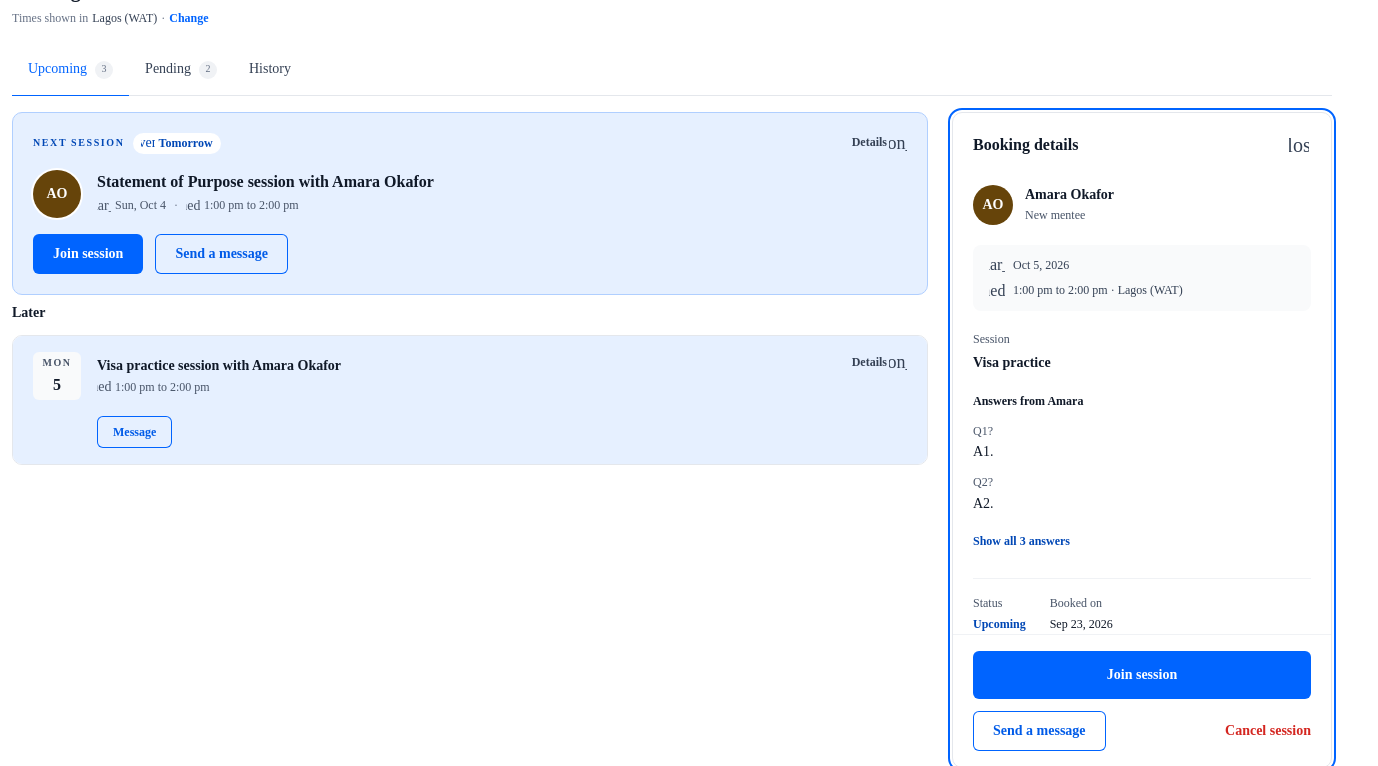
Test: the booking form answers, wired up › the panel shows them, and the disclosure reveals the rest
This screenshot has width=1378, height=766.
(page scrolled)
Expected: the text "A3." is not shown
Click the button "Show all 3 answers" at (1022, 542), box [973, 526, 1070, 558]
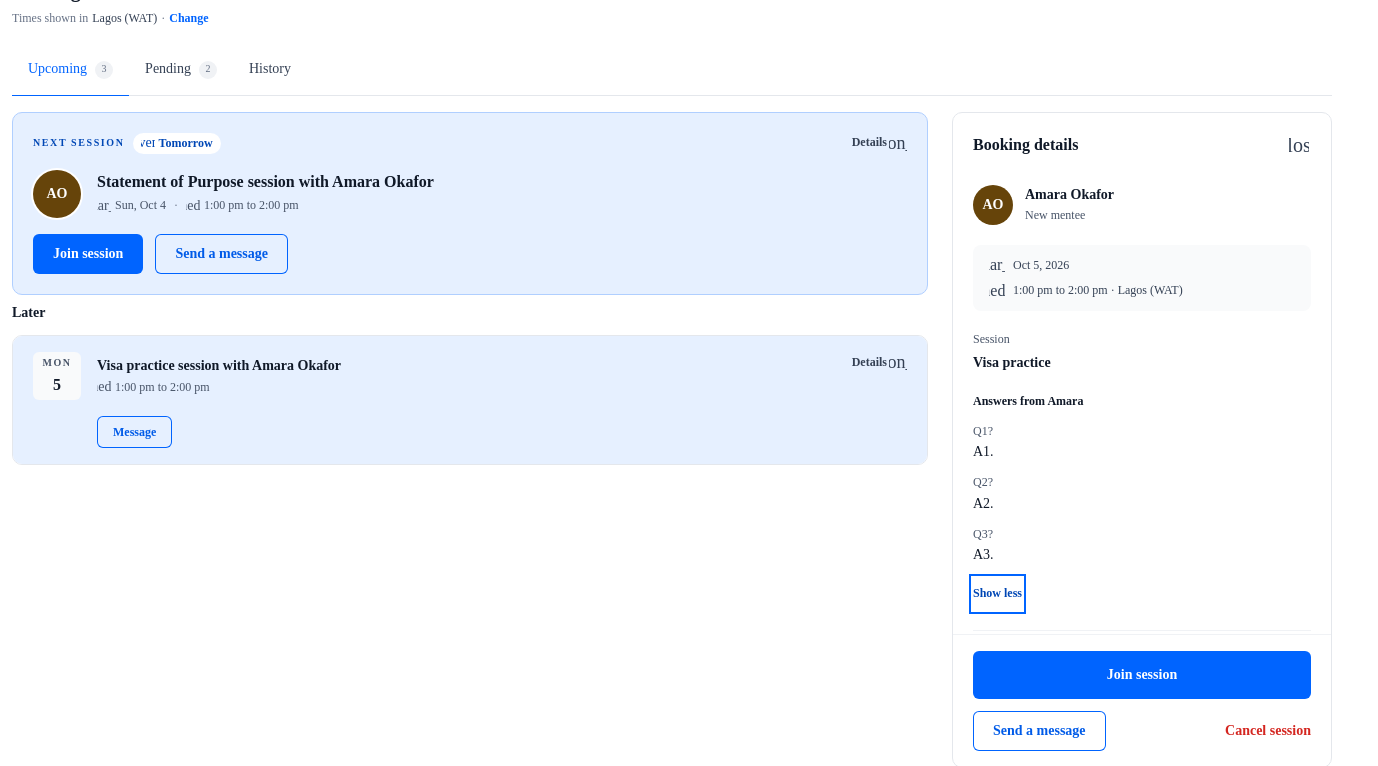
Expected: the text "A3." is shown, [973, 547, 994, 562]
Click the button "Show less" at (998, 594), box [973, 578, 1022, 610]
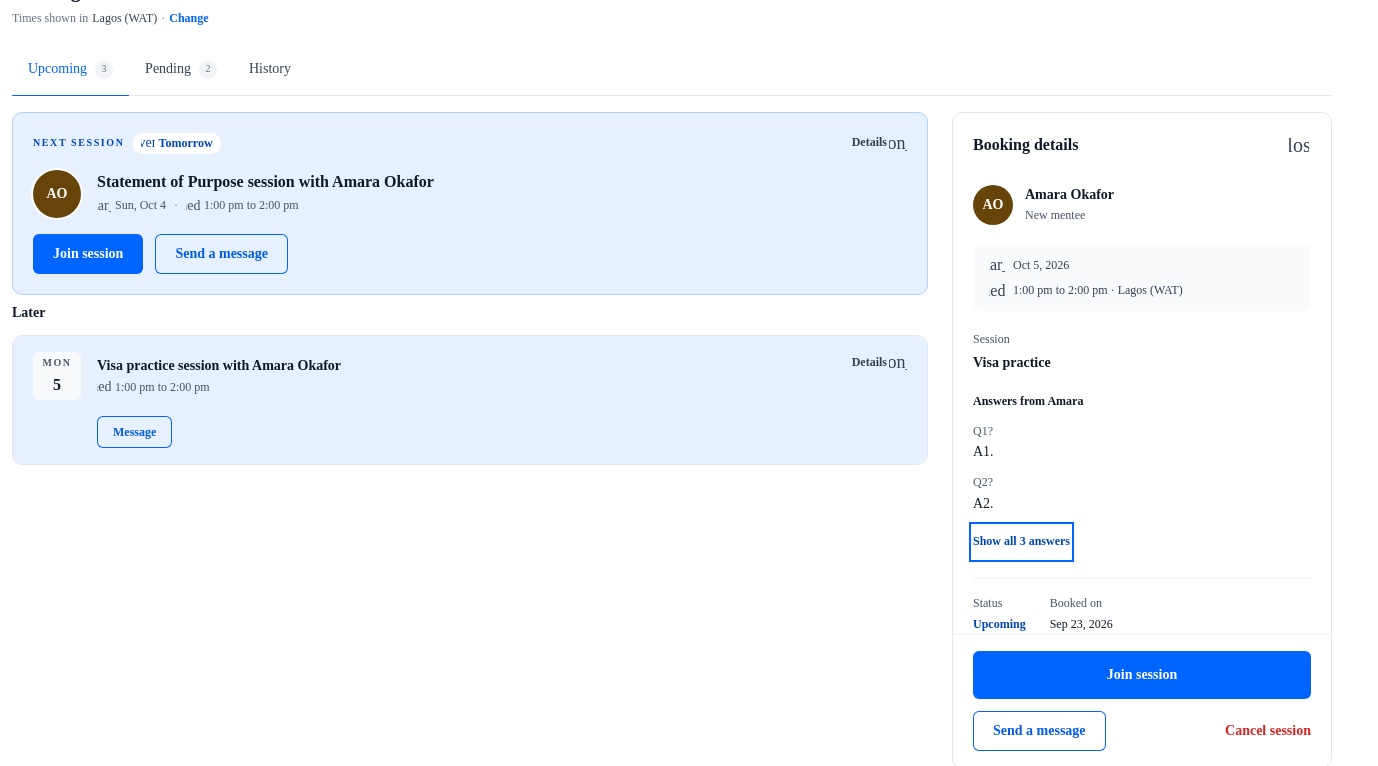
Expected: the text "A3." is gone
